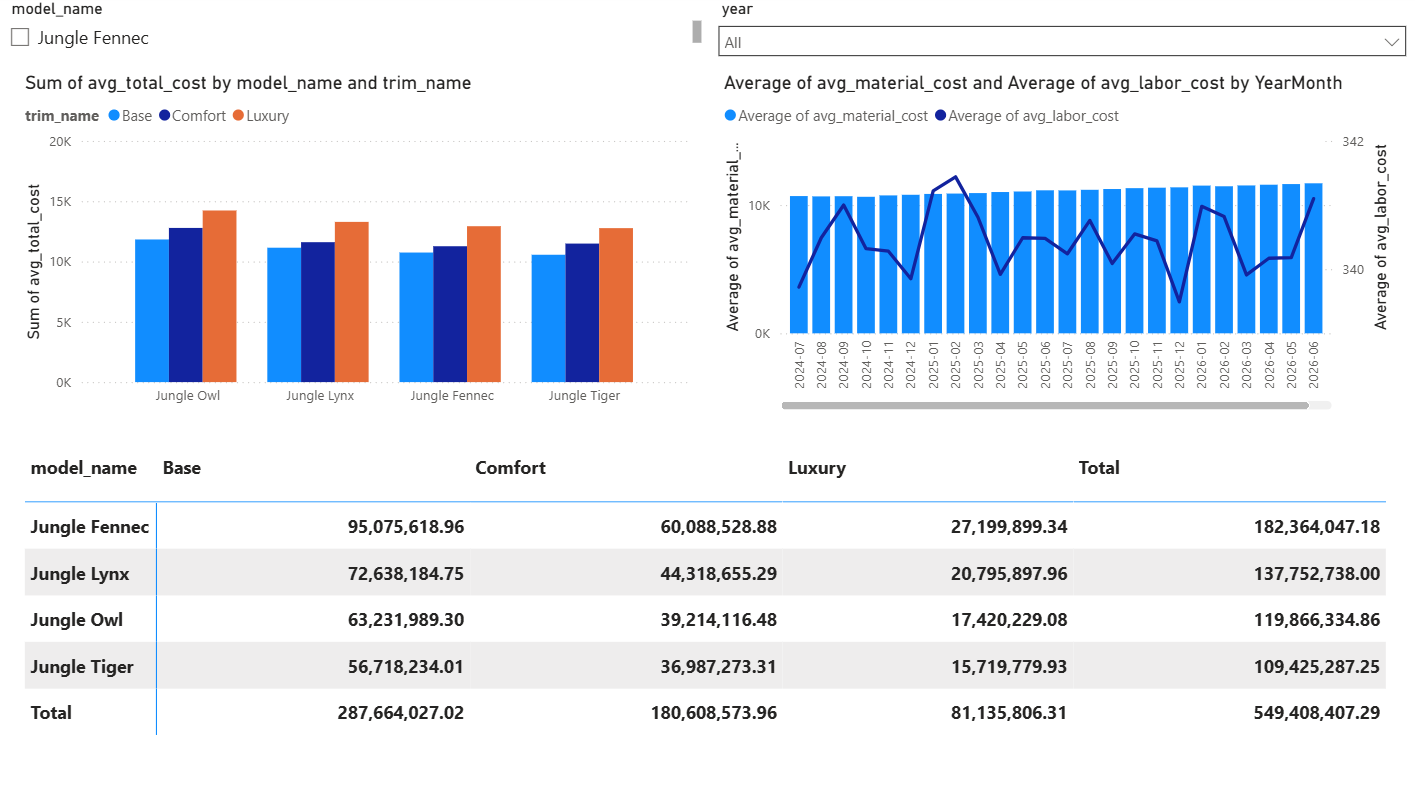

This screenshot's page, from the dashboard's own definition file:
{"tool":"powerbi","page":{"name":"Page 4","canvas":[1280,720],"ordinal":3},"visuals":[{"type":"slicer","fields":{"Values":["cost_breakdown.model_name"]},"box":[0,0,640,60],"z":0},{"type":"slicer","fields":{"Values":["cost_monthly_trend.year"]},"box":[640,0,640,60],"z":1000},{"type":"clusteredColumnChart","fields":{"Category":["cost_by_model_trim.model_name"],"Series":["cost_by_model_trim.trim_name"],"Y":["Sum(cost_by_model_trim.avg_total_cost)"]},"box":[20,70,610,310],"z":2000},{"type":"lineClusteredColumnComboChart","fields":{"Category":["cost_monthly_trend.YearMonth"],"Y2":["Avg(cost_monthly_trend.avg_labor_cost)"],"Y":["Avg(cost_monthly_trend.avg_material_cost)"]},"box":[650,70,610,310],"z":3000},{"type":"pivotTable","fields":{"Rows":["cost_breakdown.model_name"],"Columns":["cost_breakdown.trim_name"],"Values":["Sum(cost_breakdown.sum_total_cost)"]},"box":[20,400,1240,300],"z":4000}]}

Visuals, with their boxes in screenshot pixels (x1, y1, x2, y2), scaled from the page's 1280x720 canvas onto the 1415x790 screenshot:
slicer - cost_breakdown.model_name: <box>0,0,708,66</box>
slicer - cost_monthly_trend.year: <box>708,0,1414,66</box>
clusteredColumnChart - cost_by_model_trim.model_name x cost_by_model_trim.trim_name: <box>22,77,696,417</box>
lineClusteredColumnComboChart - cost_monthly_trend.YearMonth x Avg(cost_monthly_trend.avg_labor_cost): <box>719,77,1393,417</box>
pivotTable - cost_breakdown.model_name x cost_breakdown.trim_name: <box>22,439,1393,768</box>
